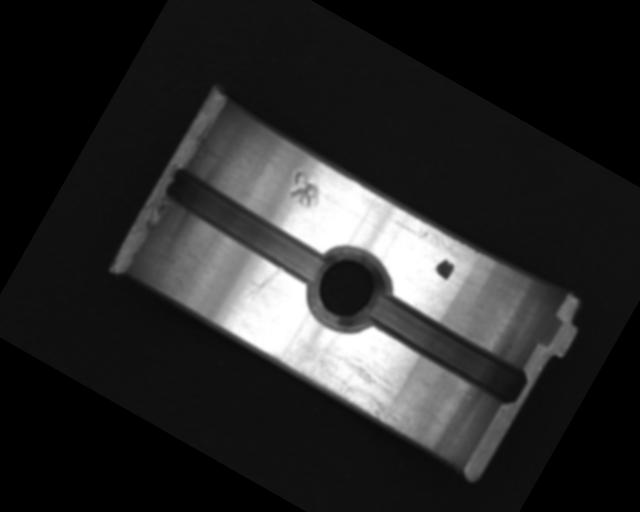blot: (432, 256, 457, 282)
bruise: (283, 169, 327, 211)
gap: (157, 161, 336, 290), (363, 289, 532, 409)
hole: (293, 234, 402, 344)
nick: (239, 258, 285, 315)
scratch: (266, 312, 432, 439)
